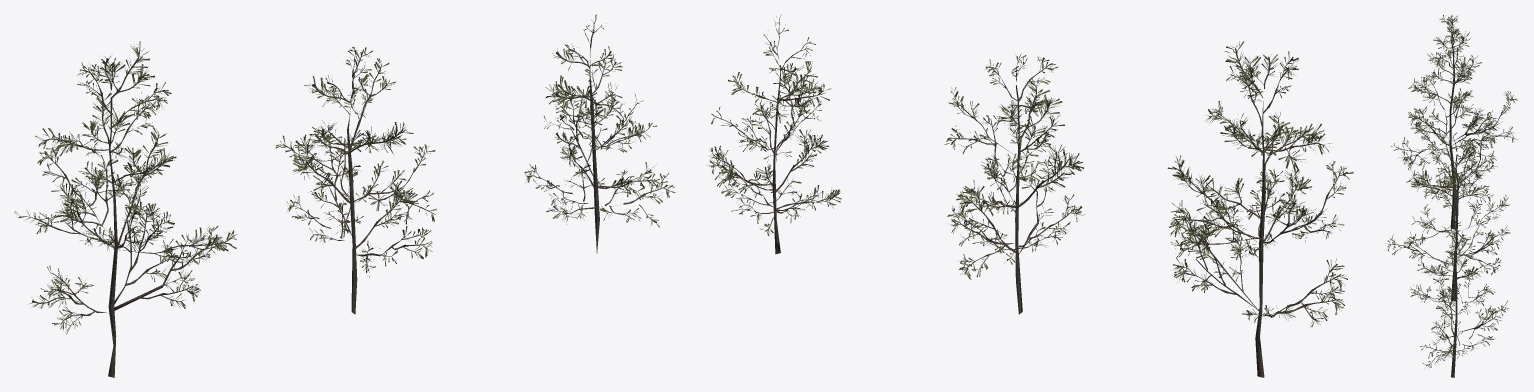
Rendered from pine_sapling_small.gltf.
3 renders of one model, left to right at view 1: azimuth 30°, elevation 25°; view 2: azimuth 150°, elevation 25°; view 3: azimuth 270°, elevation 25°, orthographic. The views are drawn at different scales.
Size of the model in its own units: 2.63 by 1.3 by 0.7677.
Materials: 2 (2 with a texture image).
